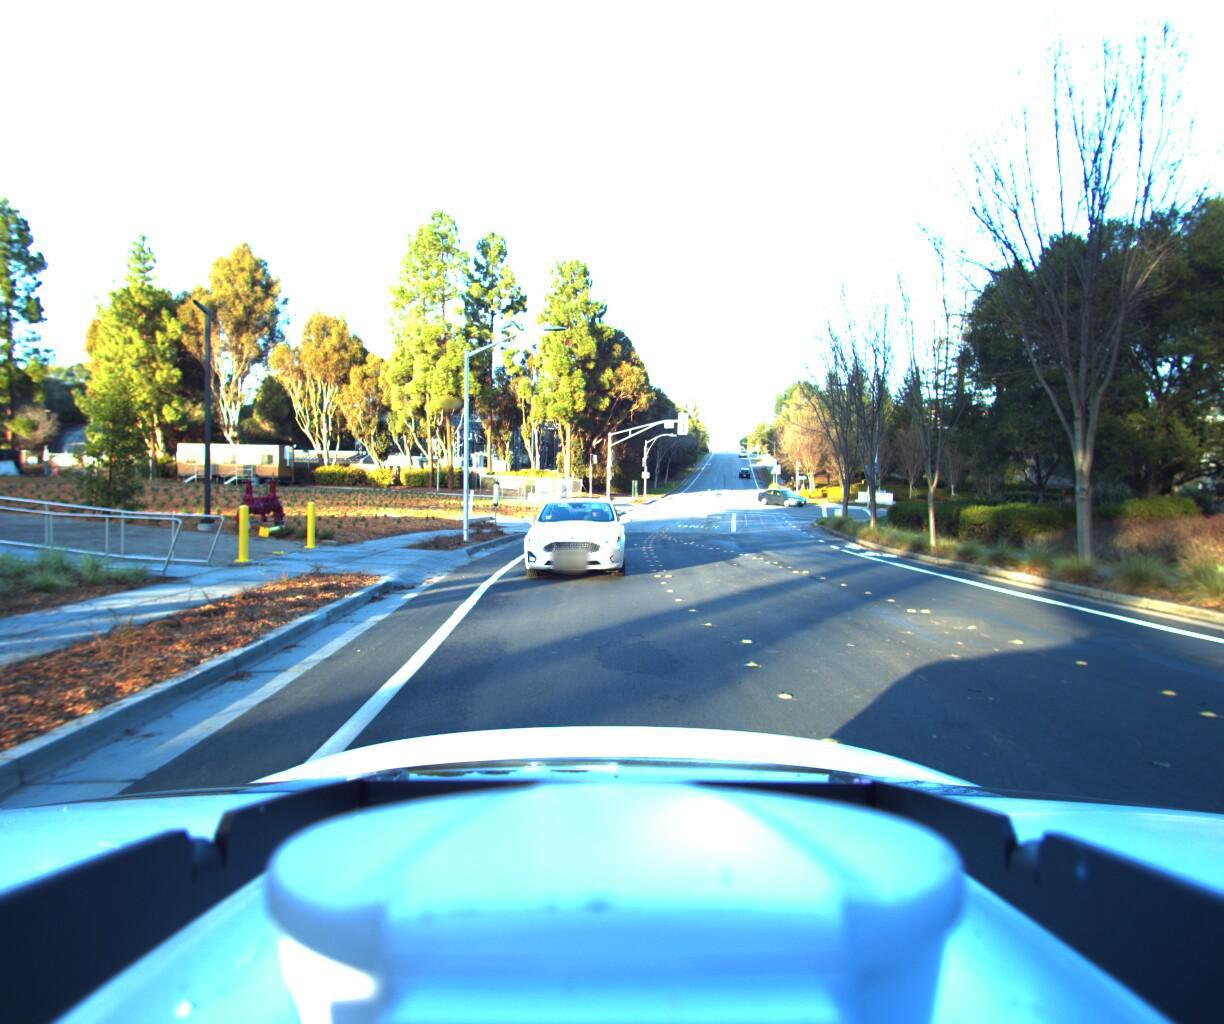car: (496, 486, 623, 598), (756, 483, 811, 505)
